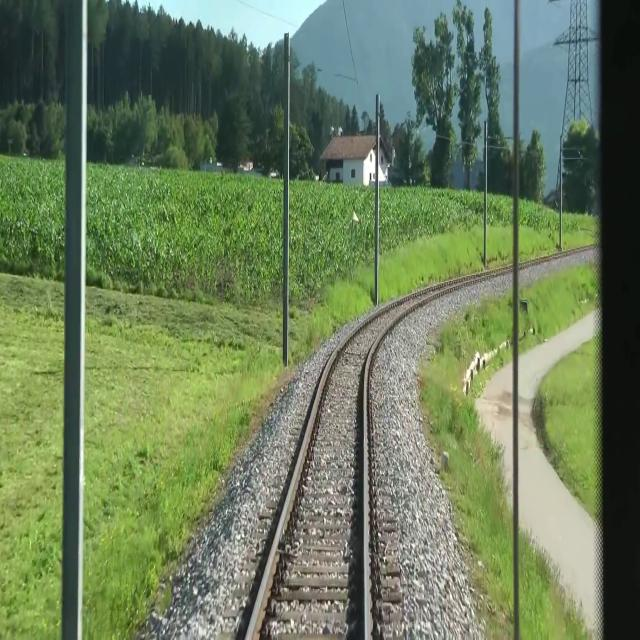rail-track: (248, 281, 455, 639)
